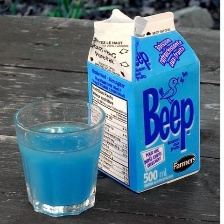carton: (82, 6, 208, 195)
glass: (13, 94, 105, 217)
